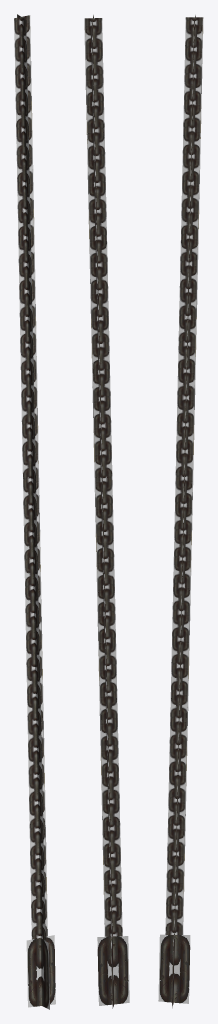
File: blsd_tielian_02.FBX
3 views of the same model, side by side, from view 1: azimuth 90°, elevation 25°; view 2: azimuth 150°, elevation 25°; view 3: azimuth 330°, elevation 25° (orthographic).
Visible parts, largest first — view 1: blsd_tielian_02; view 2: blsd_tielian_02; view 3: blsd_tielian_02.
Part boxes in pixels (x1,y1,x2,y2): blsd_tielian_02: (14,14,55,1009); blsd_tielian_02: (84,14,129,1008); blsd_tielian_02: (158,15,203,1008).
Size of the model in its own units: 6.02 by 198 by 7.61.
